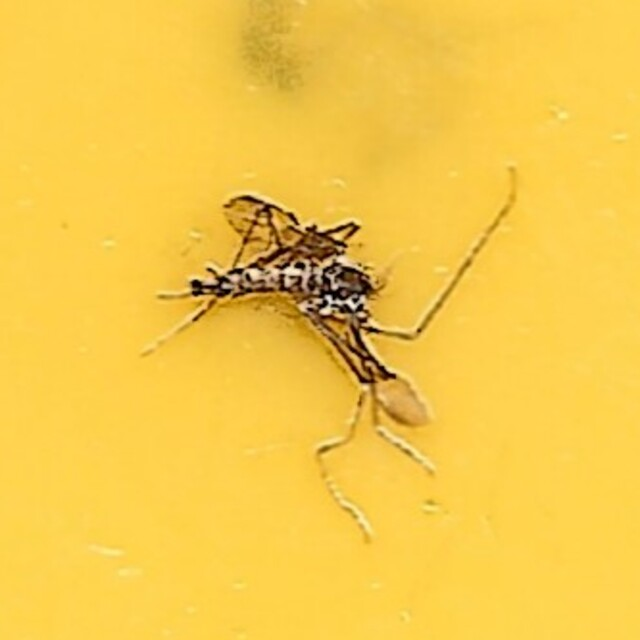Nematocera: (192, 188, 448, 452)
